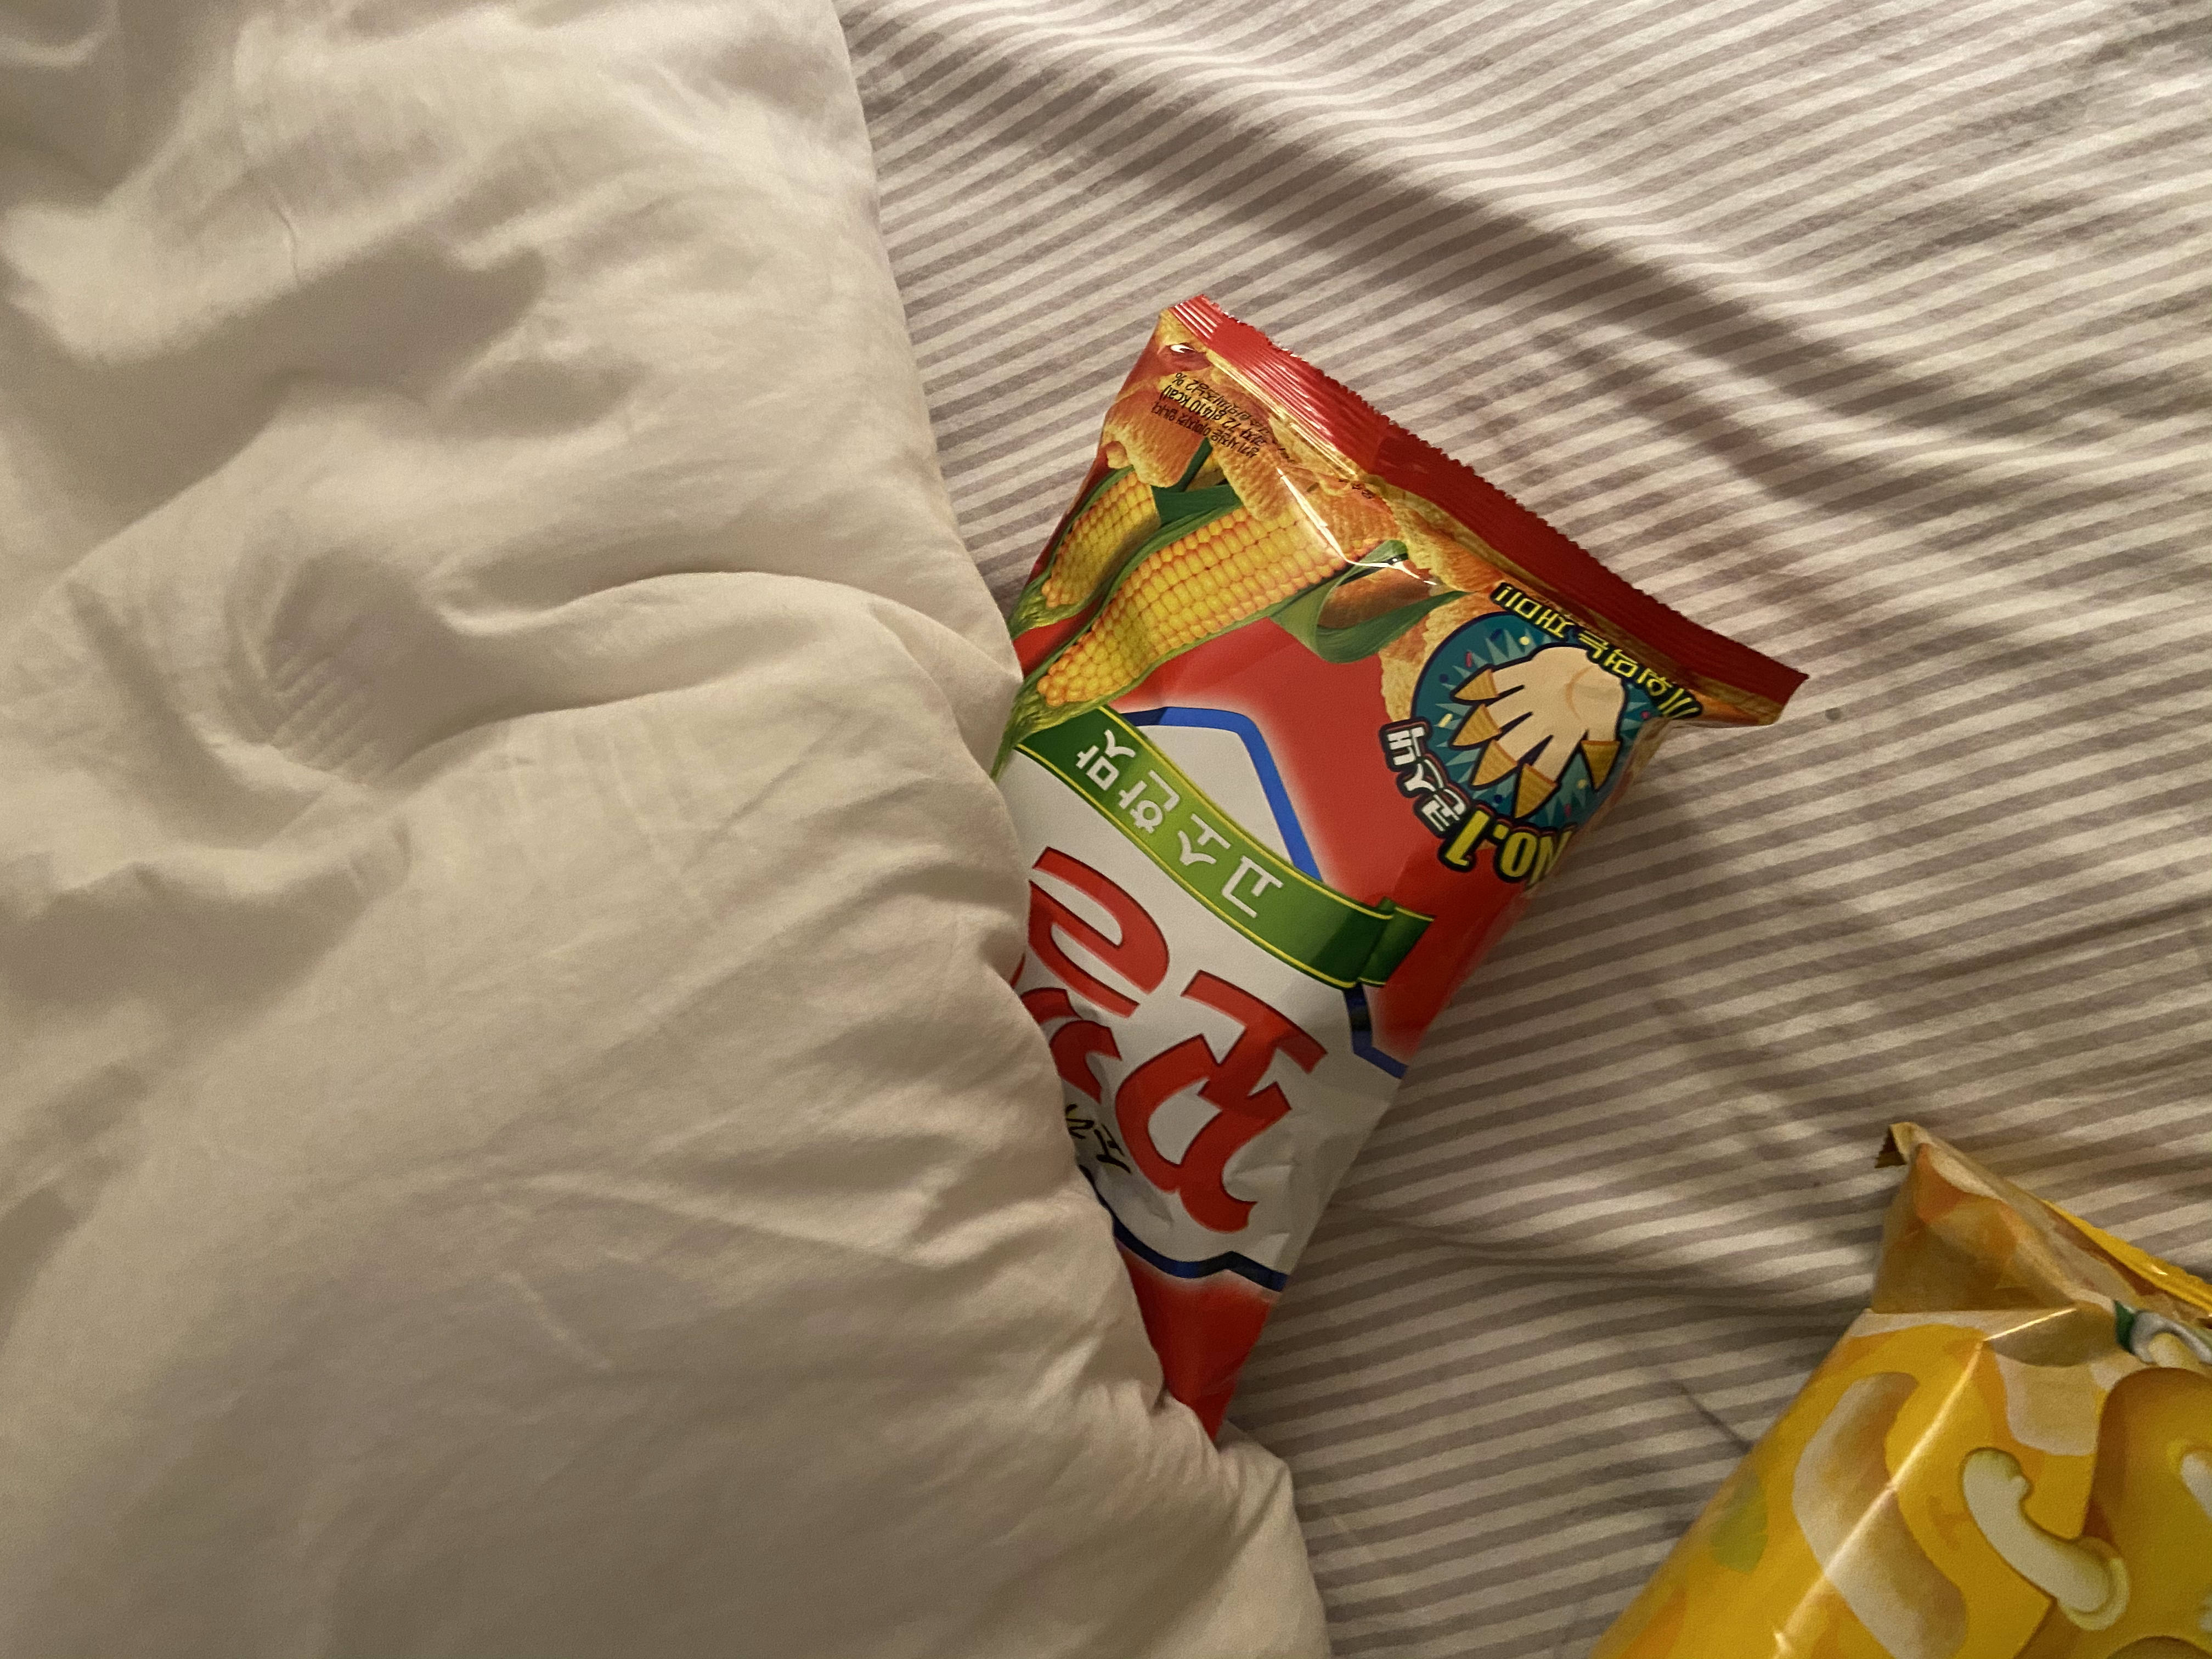ggoggalcon: (972, 277, 1824, 1459)
